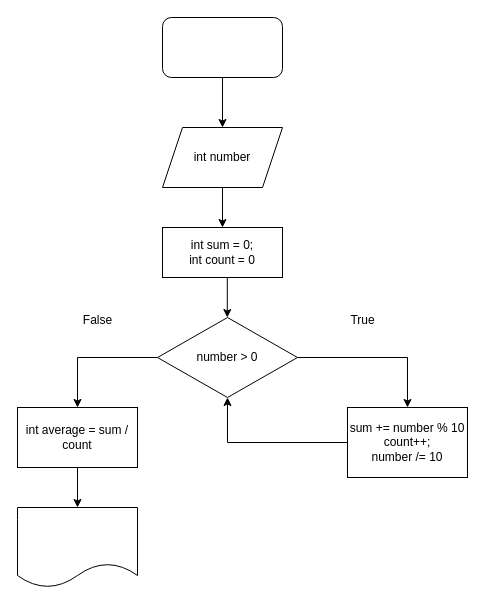
The diagram is 485 pixels wide and 605 high, and some of its shapes have lost their labels. The shapes that lost their labels are listed below. From the top down, each one's centre as x and y in pixels, then its label:
At pixel 222 47: "Start".
At pixel 77 547: "average".
